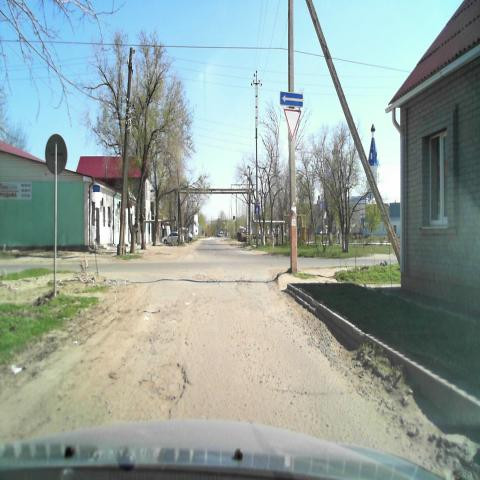5_7_2: (280, 90, 304, 107)
